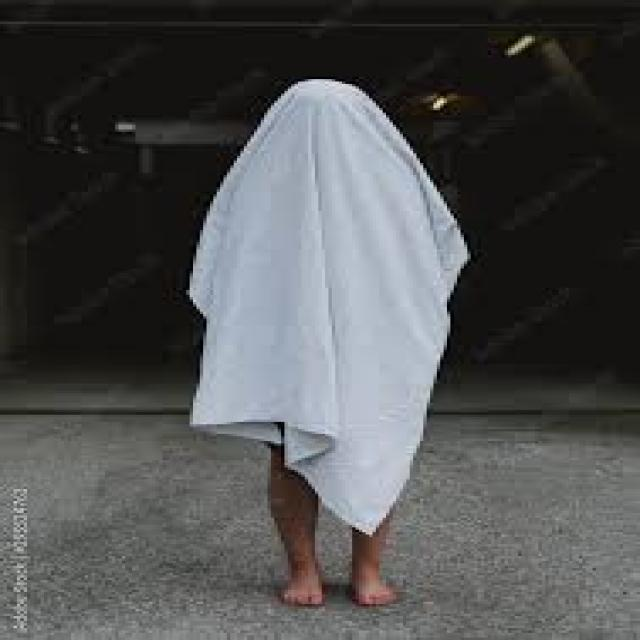No_Shoe: (349, 560, 402, 606), (281, 564, 329, 607)
